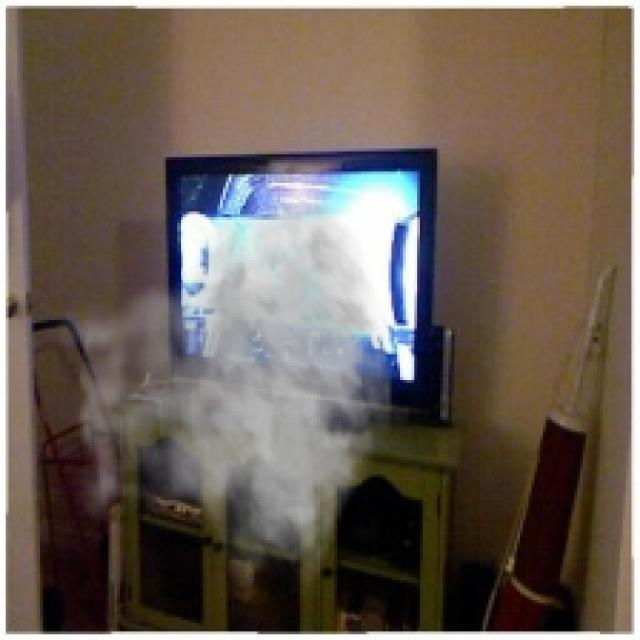Smoke: (46, 188, 394, 594)
